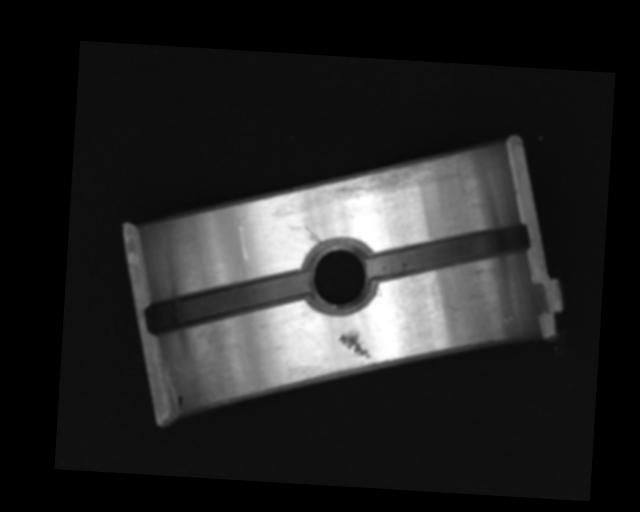blot: (177, 393, 184, 411)
bruise: (337, 327, 374, 358), (442, 303, 463, 314), (503, 314, 516, 325)
gap: (148, 260, 309, 342), (366, 216, 530, 284)
hole: (301, 237, 378, 312)
nick: (235, 201, 252, 260), (304, 226, 323, 242)
scratch: (316, 144, 465, 209)
